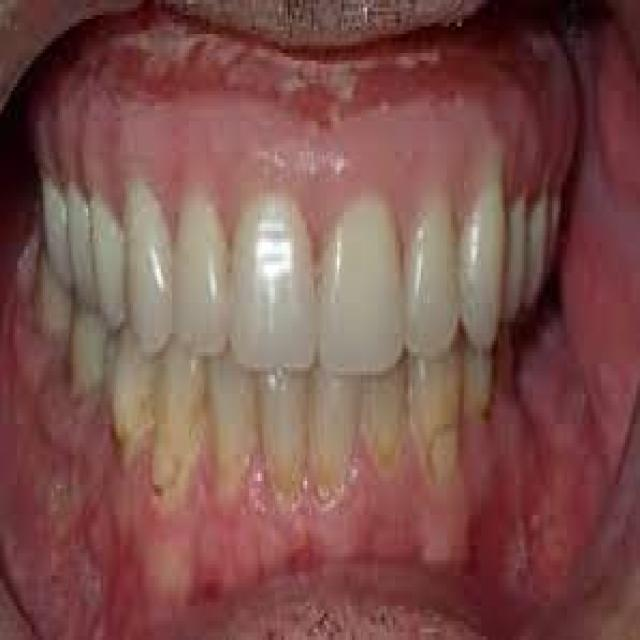tooth: (320, 208, 406, 375), (228, 204, 316, 364), (122, 186, 170, 344), (174, 205, 225, 352), (408, 186, 451, 356), (210, 337, 256, 489), (309, 368, 359, 488), (262, 367, 307, 500), (460, 204, 502, 334), (412, 356, 458, 470), (157, 371, 200, 485), (90, 212, 125, 322), (118, 337, 153, 439), (367, 368, 408, 454), (66, 190, 95, 310), (30, 258, 67, 337), (36, 185, 66, 269), (69, 318, 105, 379), (462, 352, 492, 417), (522, 193, 541, 292), (507, 197, 520, 322), (548, 193, 558, 273), (496, 345, 507, 367)
